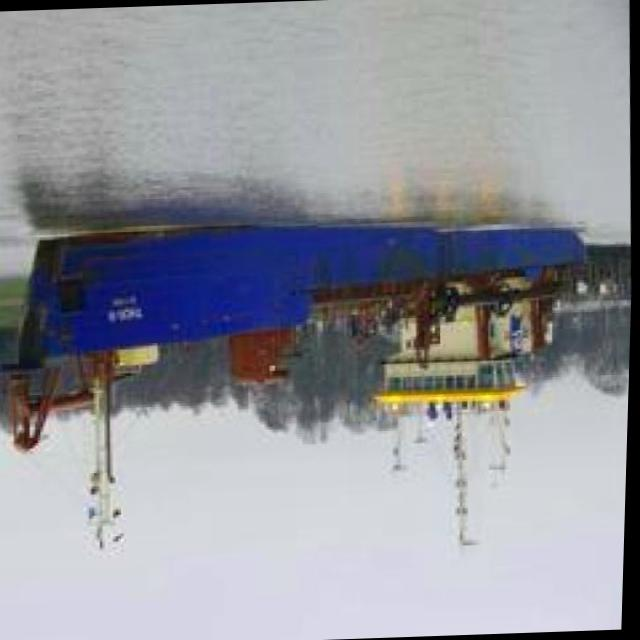ship2: (0, 219, 588, 554)
